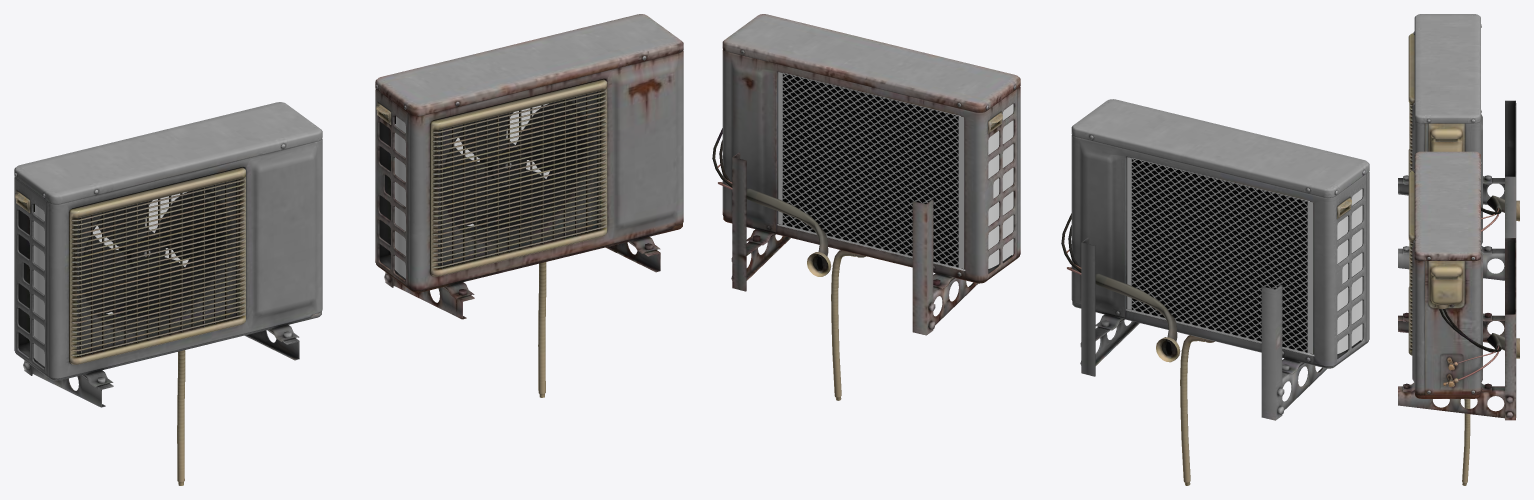
Rendered from exterior_aircon_unit.glb.
The picture shows the model from 3 angles, left to right: view 1: azimuth 30°, elevation 25°; view 2: azimuth 150°, elevation 25°; view 3: azimuth 270°, elevation 25°; orthographic projection. The views are drawn at different scales.
Parts seen in each view (by area): view 1: exterior_aircon_unit, exterior_aircon_unit_rusted; view 2: exterior_aircon_unit, exterior_aircon_unit_rusted; view 3: exterior_aircon_unit_rusted, exterior_aircon_unit.
Boxes of the visible parts, left/top/right/bottom form: exterior_aircon_unit: left=14, top=102, right=322, bottom=485; exterior_aircon_unit_rusted: left=375, top=14, right=683, bottom=397; exterior_aircon_unit: left=1061, top=99, right=1369, bottom=485; exterior_aircon_unit_rusted: left=712, top=14, right=1020, bottom=400; exterior_aircon_unit_rusted: left=1398, top=151, right=1519, bottom=485; exterior_aircon_unit: left=1398, top=14, right=1519, bottom=280.
Size of the model in its own units: 1.8 by 0.9279 by 0.3741.
4 materials, 4 textured.
